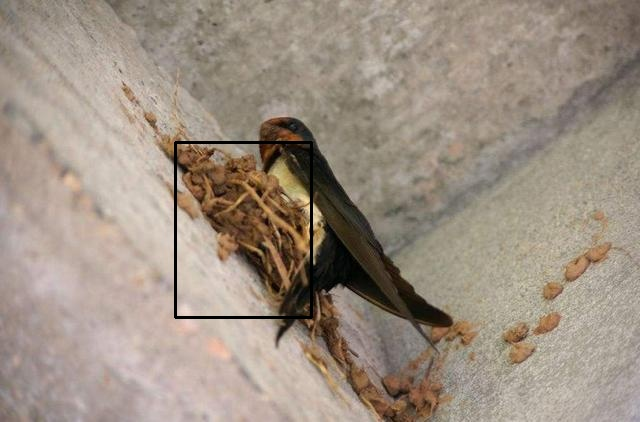bird-nest: (175, 142, 311, 317)
